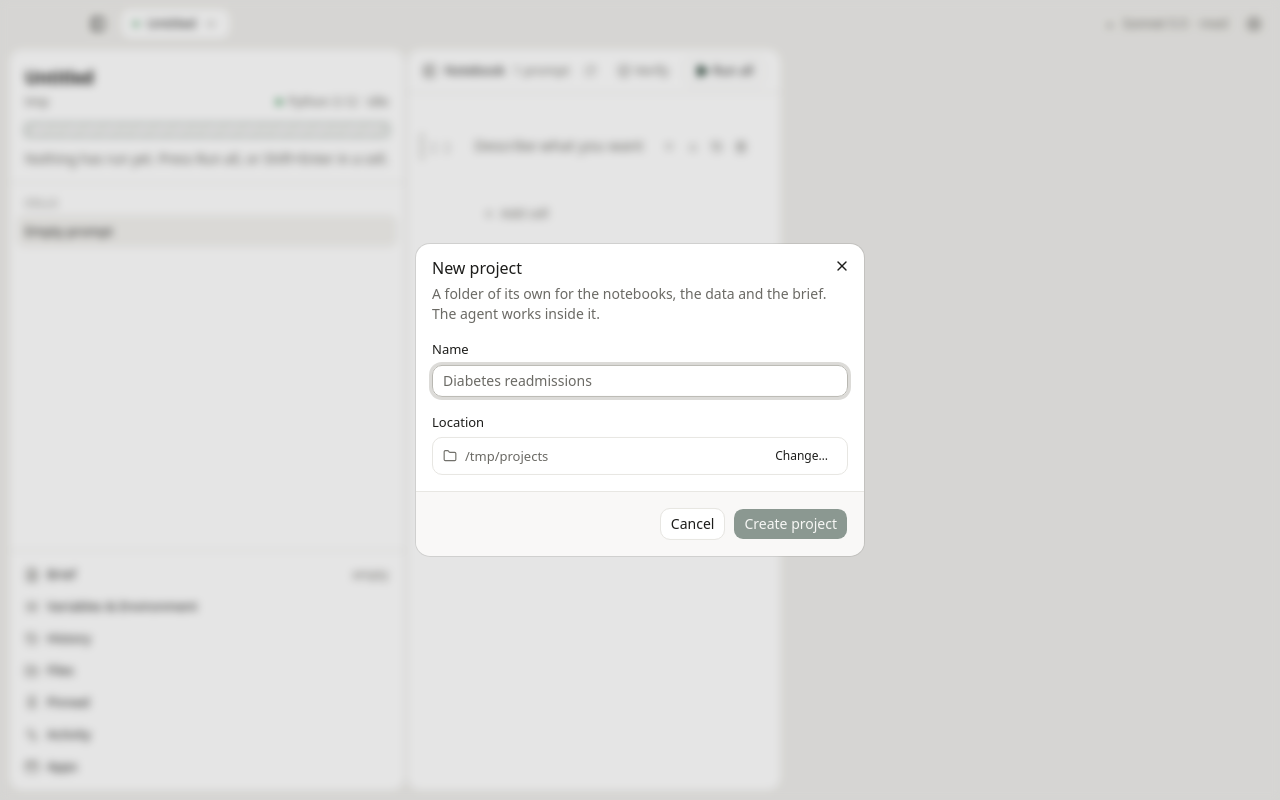
Test: Welcome › keeps the dialog open with the reason when a project name is refused
The image size is (1280, 800).
Expected: the text box named "Prompt" is shown, [474,133,645,157]
Type "Churn" into the field labelled "Name" at [640, 380], box [432,364,848,396]
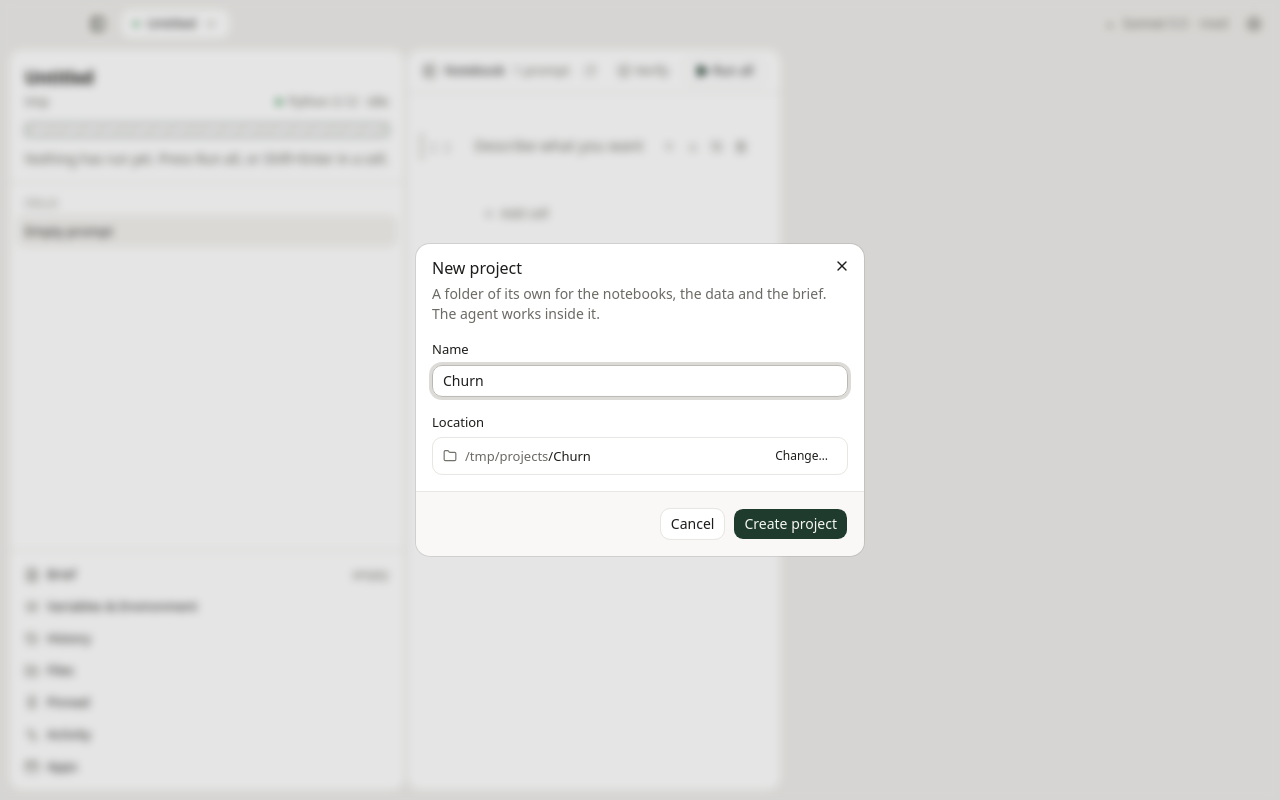
Click the button "Create project" at [791, 524], box [733,508,848,540]
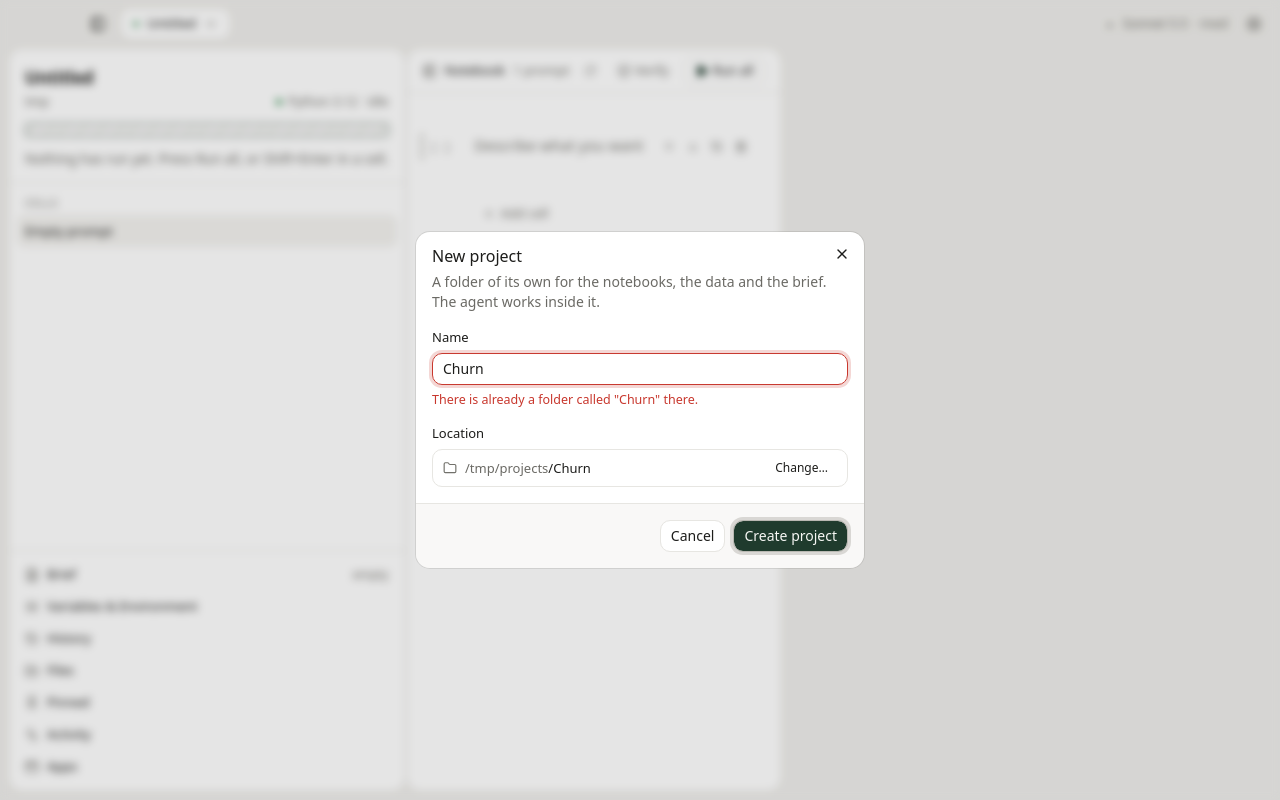
Result: the message shows "already a folder called \"Churn\"" at [432,391,698,408]
